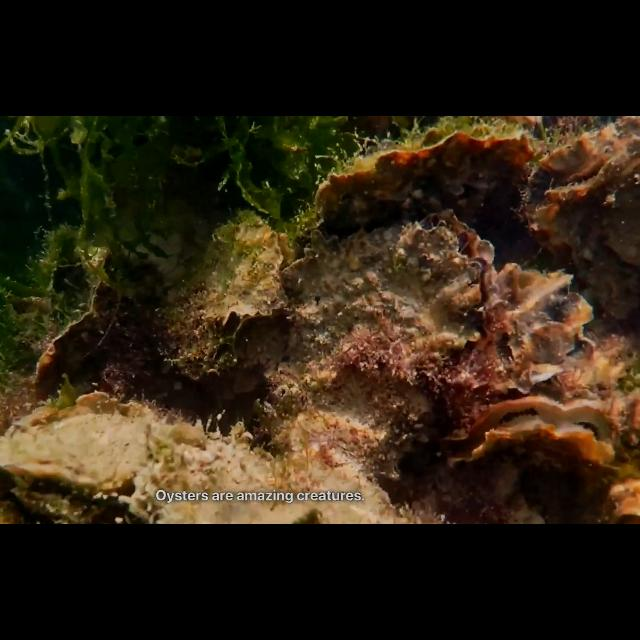Oyster-Closed: (320, 127, 540, 236), (40, 276, 168, 396)
Oyster-Open: (276, 207, 504, 481), (526, 116, 640, 320), (0, 406, 164, 524), (443, 389, 635, 479), (137, 412, 267, 524), (499, 258, 599, 390), (217, 221, 303, 337), (162, 264, 246, 378), (597, 481, 640, 525)
